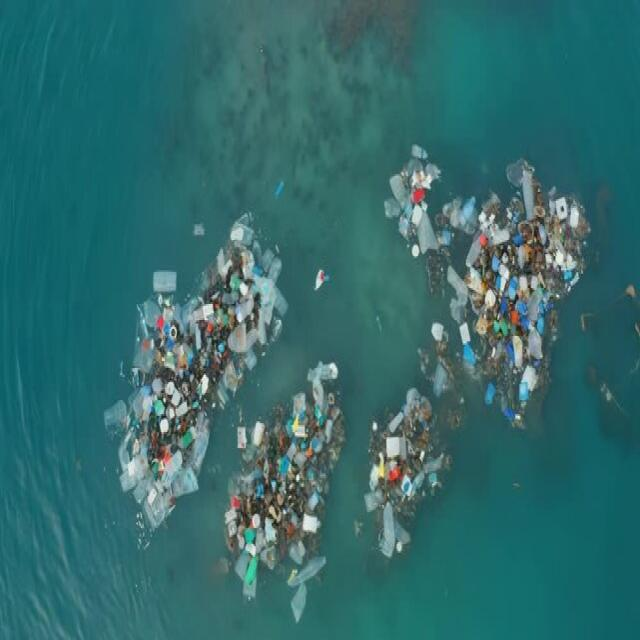plastic watse: (105, 216, 286, 527), (388, 143, 589, 423), (225, 363, 344, 606), (366, 388, 449, 554)
